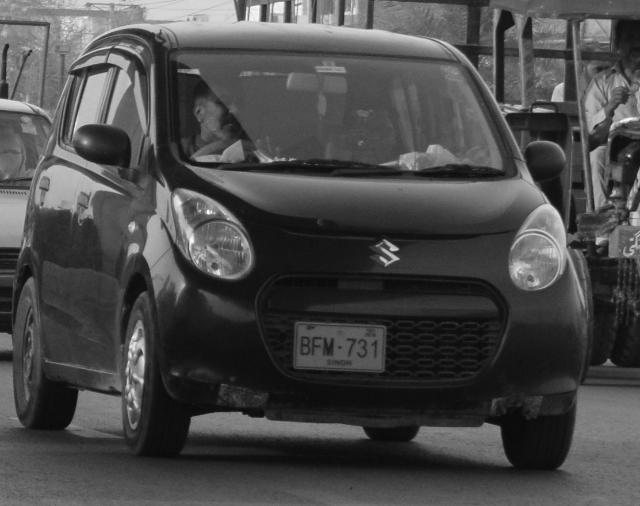Number: (298, 334, 382, 360)
